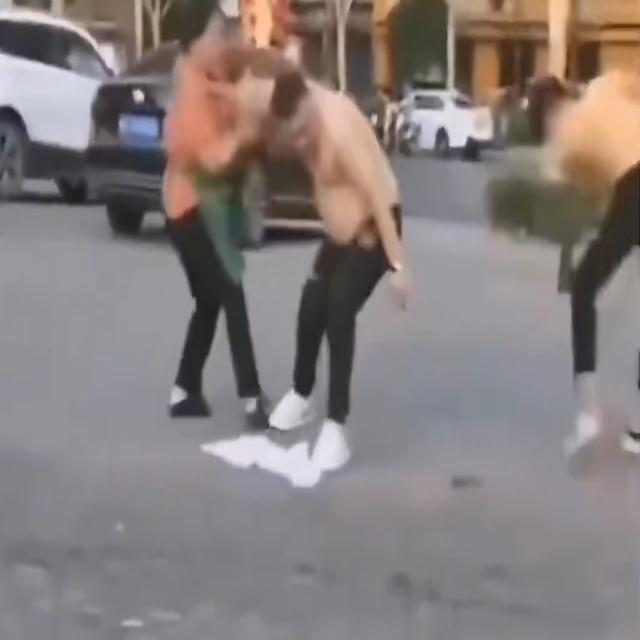fight: (162, 0, 373, 238)
